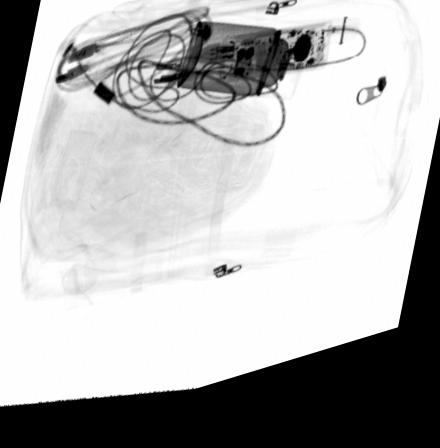Sprayer: (174, 31, 314, 120)
